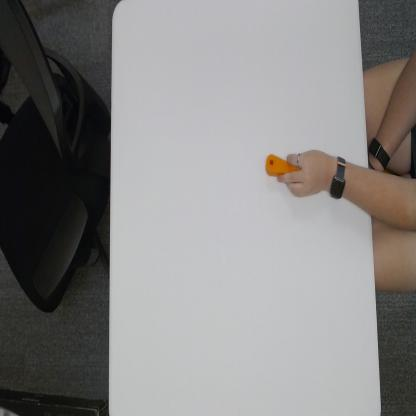Arm: (346, 158, 371, 216)
Hand: (279, 149, 331, 200)
Screwdriver: (266, 150, 304, 182)
